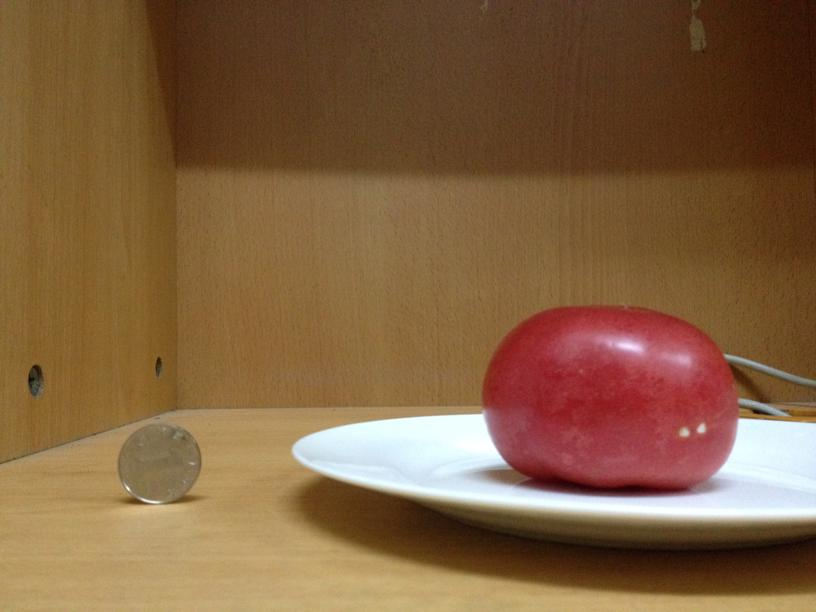coin: (116, 424, 201, 501)
tomato: (486, 306, 738, 491)
